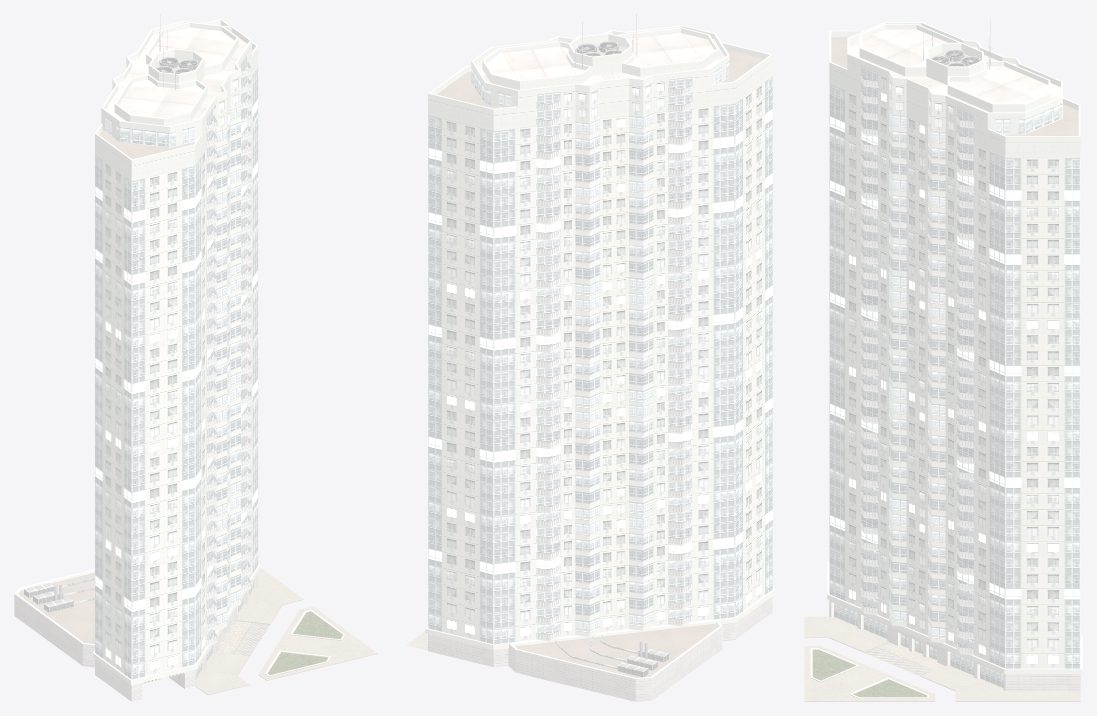
File: hirise7.FBX
The picture shows the model from 3 angles, left to right: view 1: azimuth 30°, elevation 25°; view 2: azimuth 150°, elevation 25°; view 3: azimuth 270°, elevation 25°; orthographic projection. The views are drawn at different scales.
Visible parts, largest first — view 1: hirise7; view 2: hirise7; view 3: hirise7.
Part boxes in pixels (bbox=[...]): hirise7: bbox=[14, 14, 377, 701]; hirise7: bbox=[406, 14, 775, 701]; hirise7: bbox=[804, 19, 1082, 701].
Bounding box in the file's own units: 4848 × 11901 × 4848.
1 material, 1 textured.
